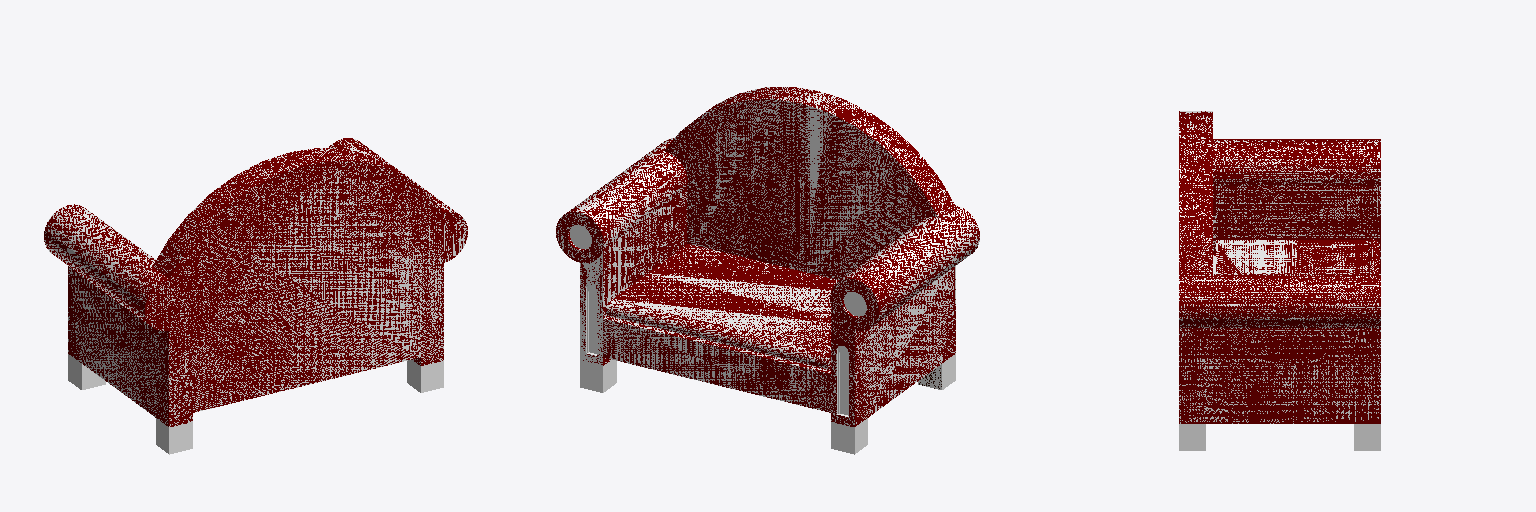
3 renders of one model, left to right at view 1: azimuth 30°, elevation 25°; view 2: azimuth 150°, elevation 25°; view 3: azimuth 270°, elevation 25°, orthographic.
Visible parts, largest first — view 1: mesh1_mesh1-geometry; view 2: mesh1_mesh1-geometry; view 3: mesh1_mesh1-geometry.
Part boxes in pixels (left/top/right/bottom): mesh1_mesh1-geometry: left=44, top=138, right=467, bottom=454; mesh1_mesh1-geometry: left=556, top=87, right=979, bottom=454; mesh1_mesh1-geometry: left=1179, top=111, right=1380, bottom=450.
Size of the model in its own units: 0.7319 by 0.5545 by 0.3961.
6 materials, 1 textured.